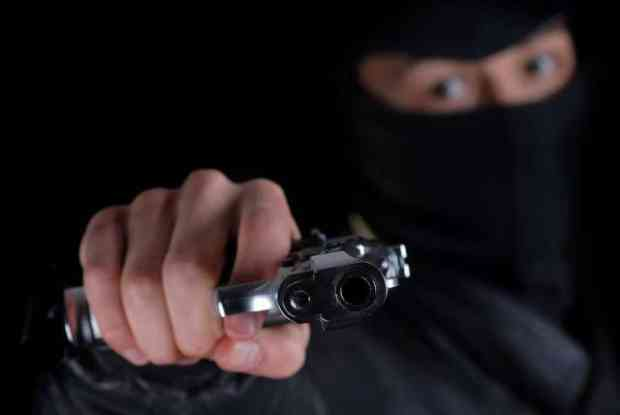Arma Real: (49, 210, 413, 363)
